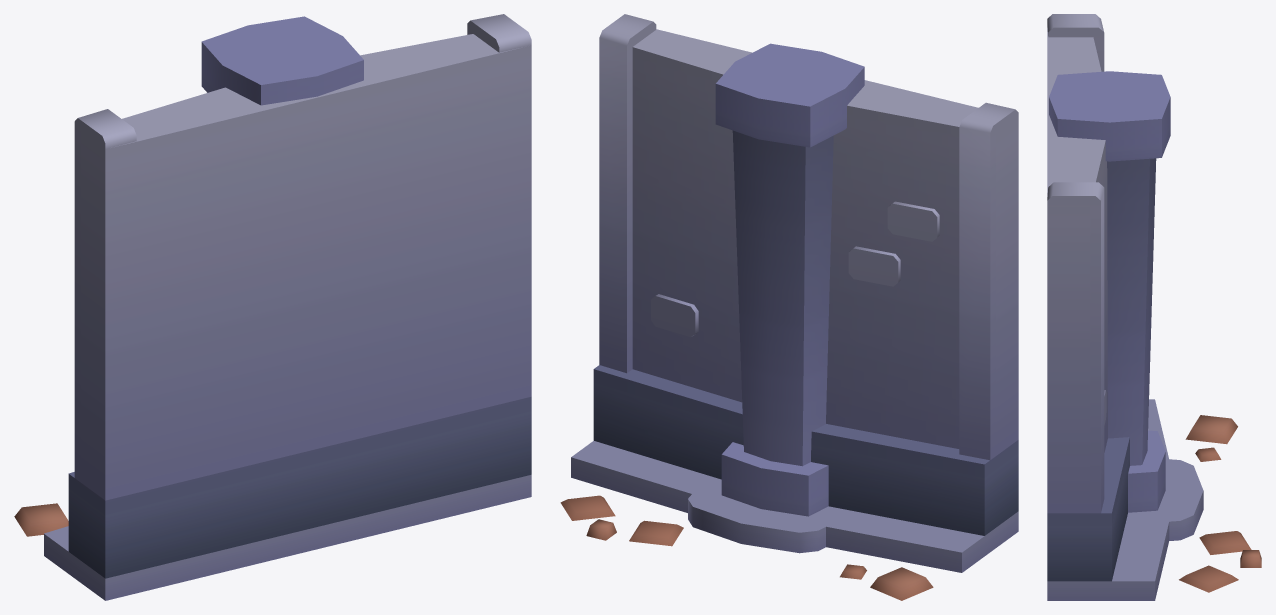
File: kenney-modular-dungeon-template-wall-detail-a.glb
The picture shows the model from 3 angles, left to right: view 1: azimuth 30°, elevation 25°; view 2: azimuth 150°, elevation 25°; view 3: azimuth 270°, elevation 25°; orthographic projection. The views are drawn at different scales.
Parts seen in each view (by area): view 1: template-wall-detail-a; view 2: template-wall-detail-a; view 3: template-wall-detail-a.
Boxes of the visible parts, <box> form: template-wall-detail-a: <box>14,14,531,600</box>; template-wall-detail-a: <box>560,14,1018,600</box>; template-wall-detail-a: <box>1047,14,1261,600</box>.
Bounding box in the file's own units: 4 × 4.23 × 1.99.
Materials: 1 (1 with a texture image).
